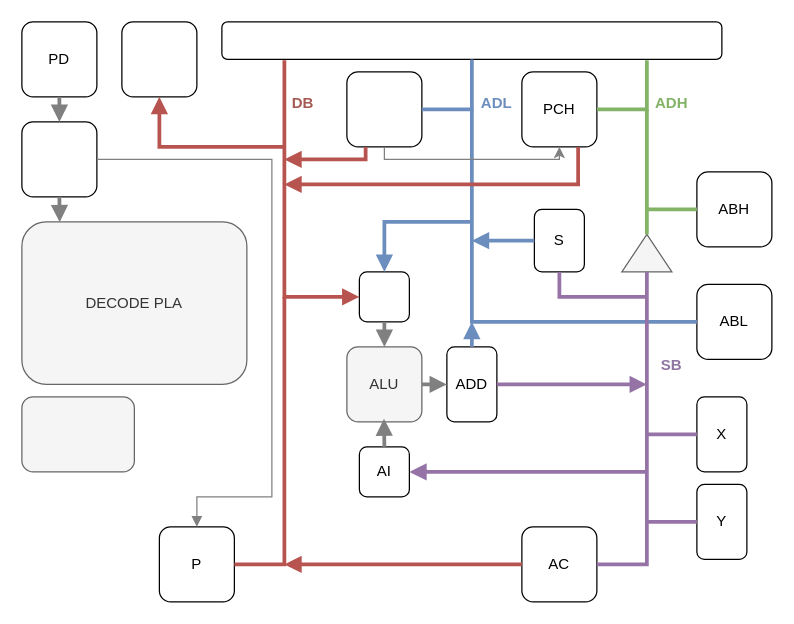
This 794x624 diagram has some shape labels left out. The box of each missing label's shape, as (x1, y1, x2, y2) in pixels:
BI: (358, 271, 409, 322)
DL: (221, 21, 722, 59)
DOR: (121, 21, 197, 97)
IR: (21, 121, 97, 197)
PCL: (346, 71, 422, 147)
RESET PLA: (21, 396, 134, 472)
